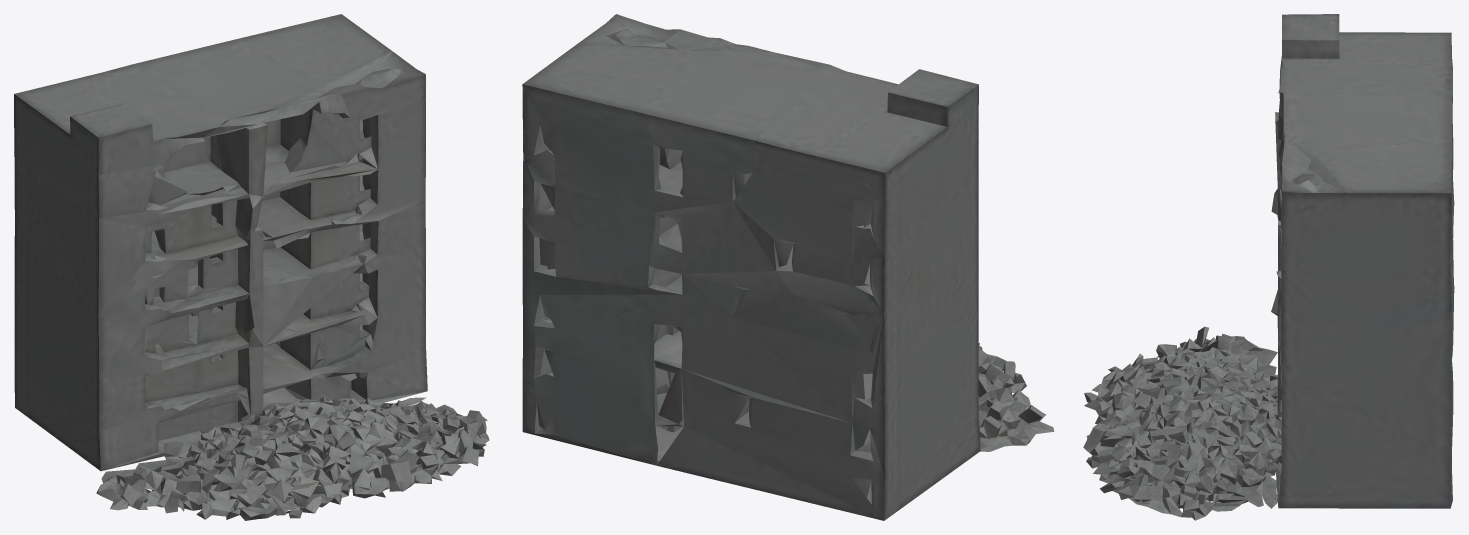
The model's file is ruine_2.glb.
3 renders of one model, left to right at view 1: azimuth 30°, elevation 25°; view 2: azimuth 150°, elevation 25°; view 3: azimuth 270°, elevation 25°, orthographic. The views are drawn at different scales.
Bounding box in the file's own units: 1.87 × 1.61 × 1.6.
1 material, 1 textured.
